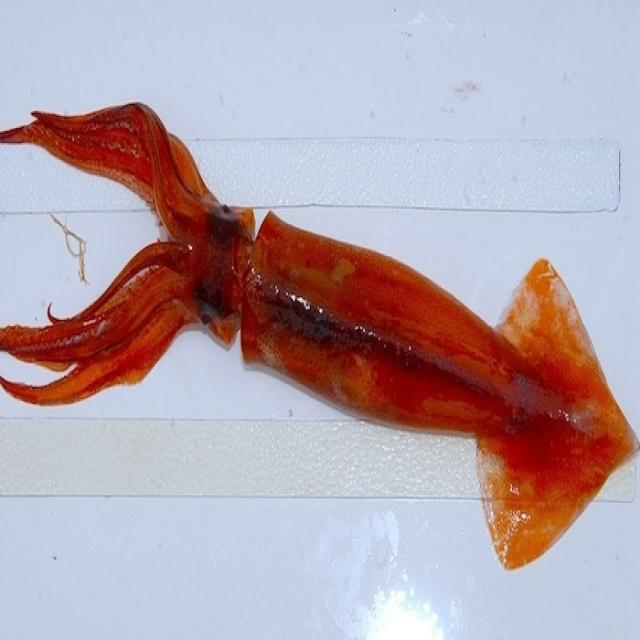SQUID: (4, 68, 640, 591)
